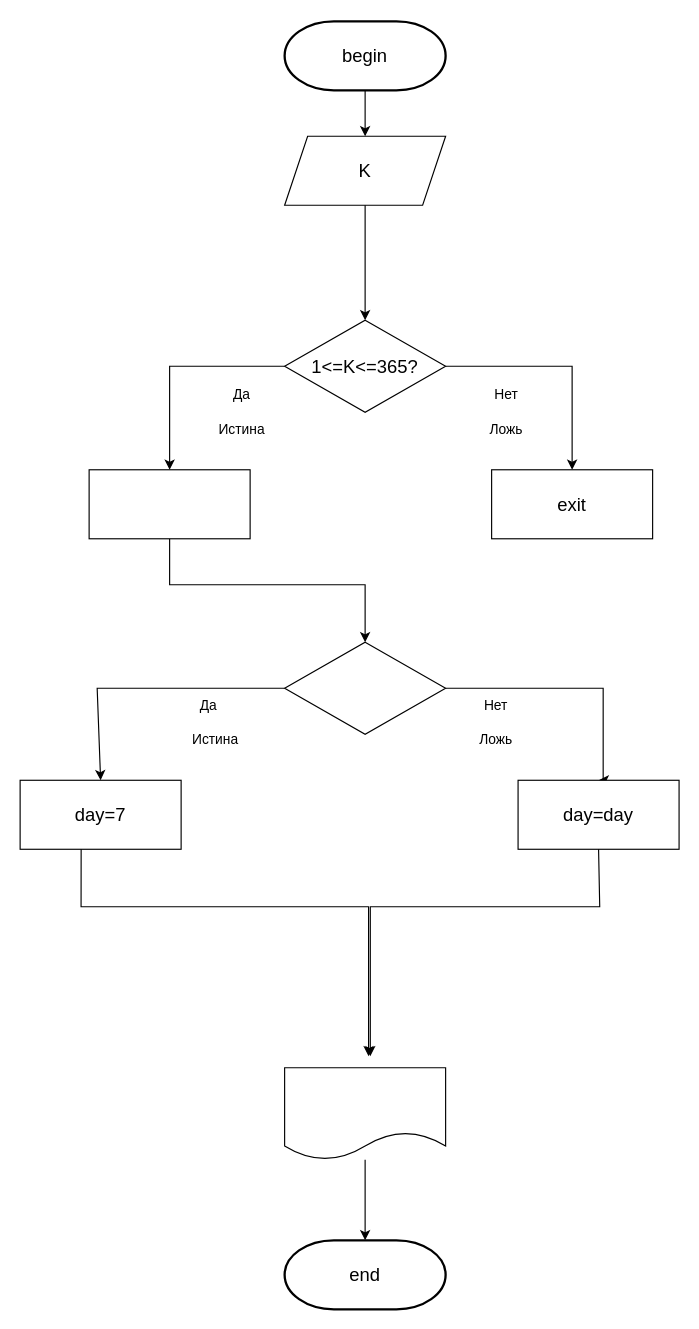
The diagram is 699 pixels wide and 1329 high, and some of its shapes have lost their labels. Here are the shapes that lost their labels. From the top down, the box of each, then its label:
(88, 469, 250, 539): Day=K%7
(283, 641, 446, 734): day=0?
(283, 1067, 446, 1160): day
